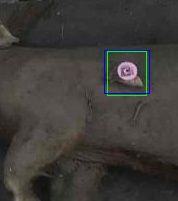text: (107, 51, 146, 95)
